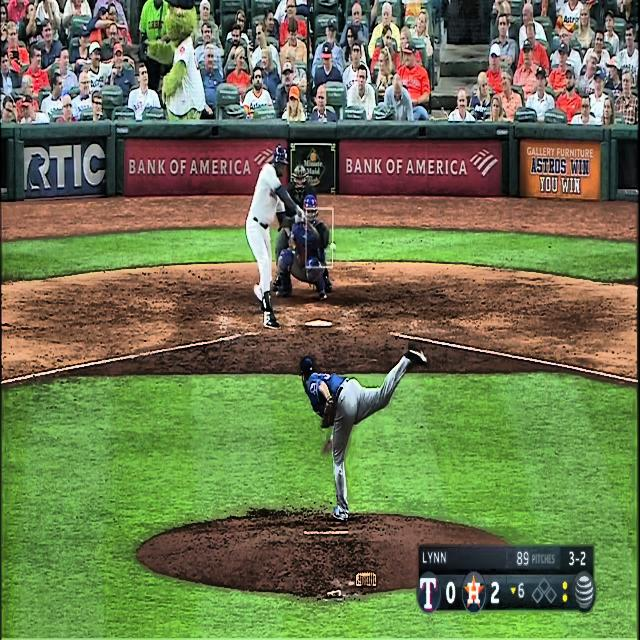baseball: (330, 242, 336, 251)
